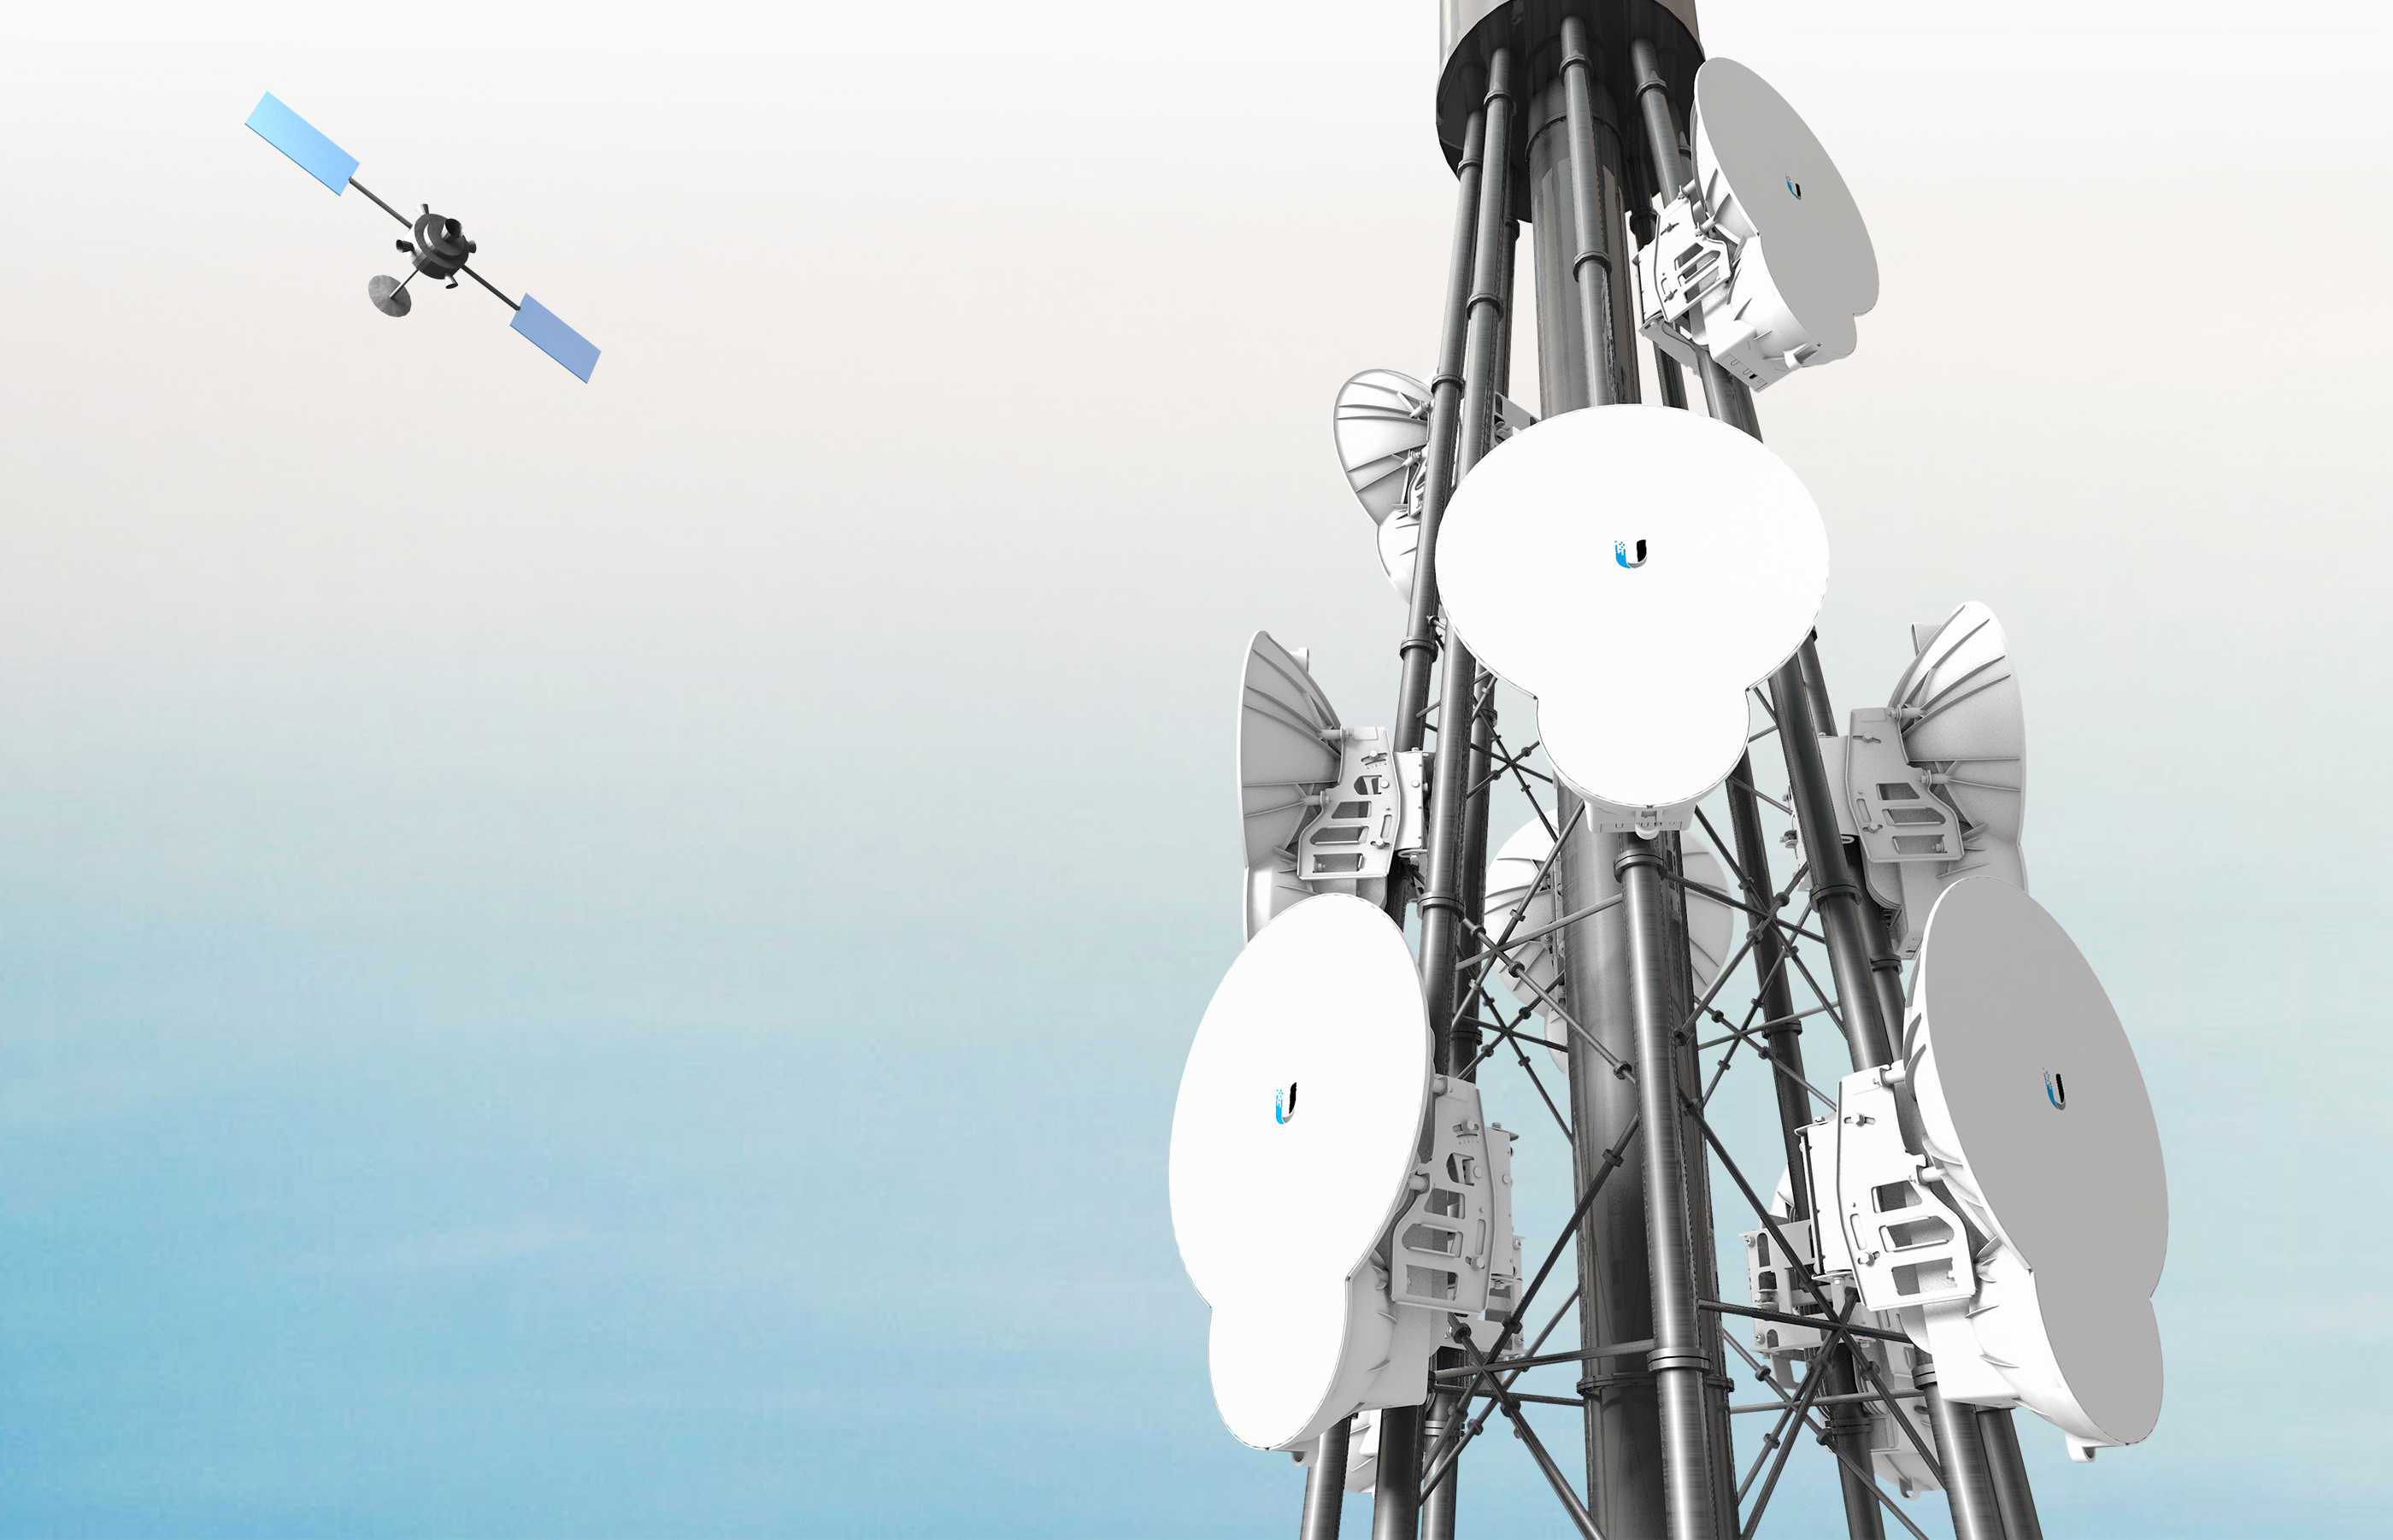ba: (1176, 818, 1500, 1482), (1455, 384, 1817, 872), (1891, 865, 2192, 1437), (1678, 72, 1880, 398)
